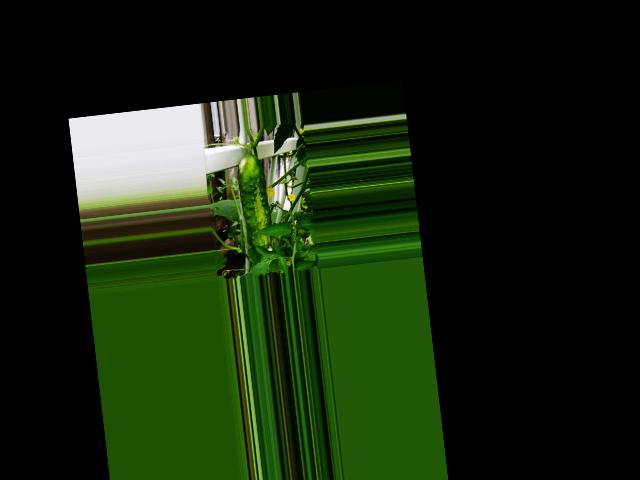cucumber: (235, 152, 273, 250)
